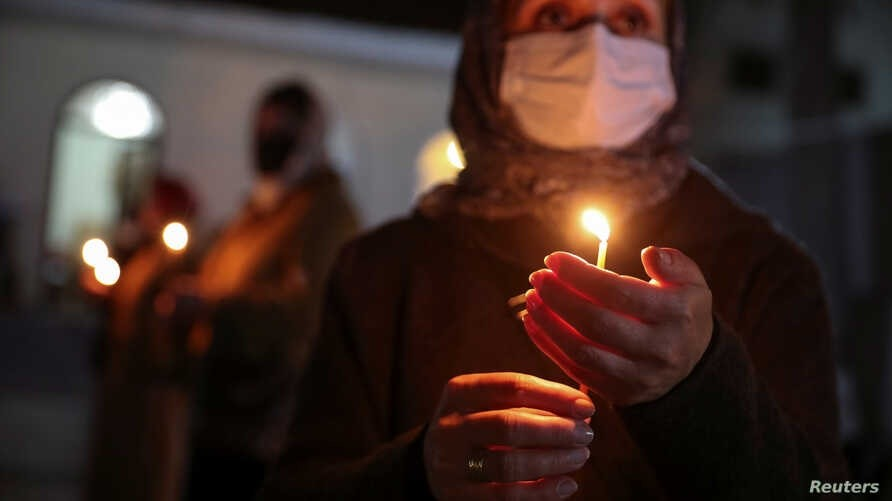face_with_mask: (503, 5, 671, 153)
